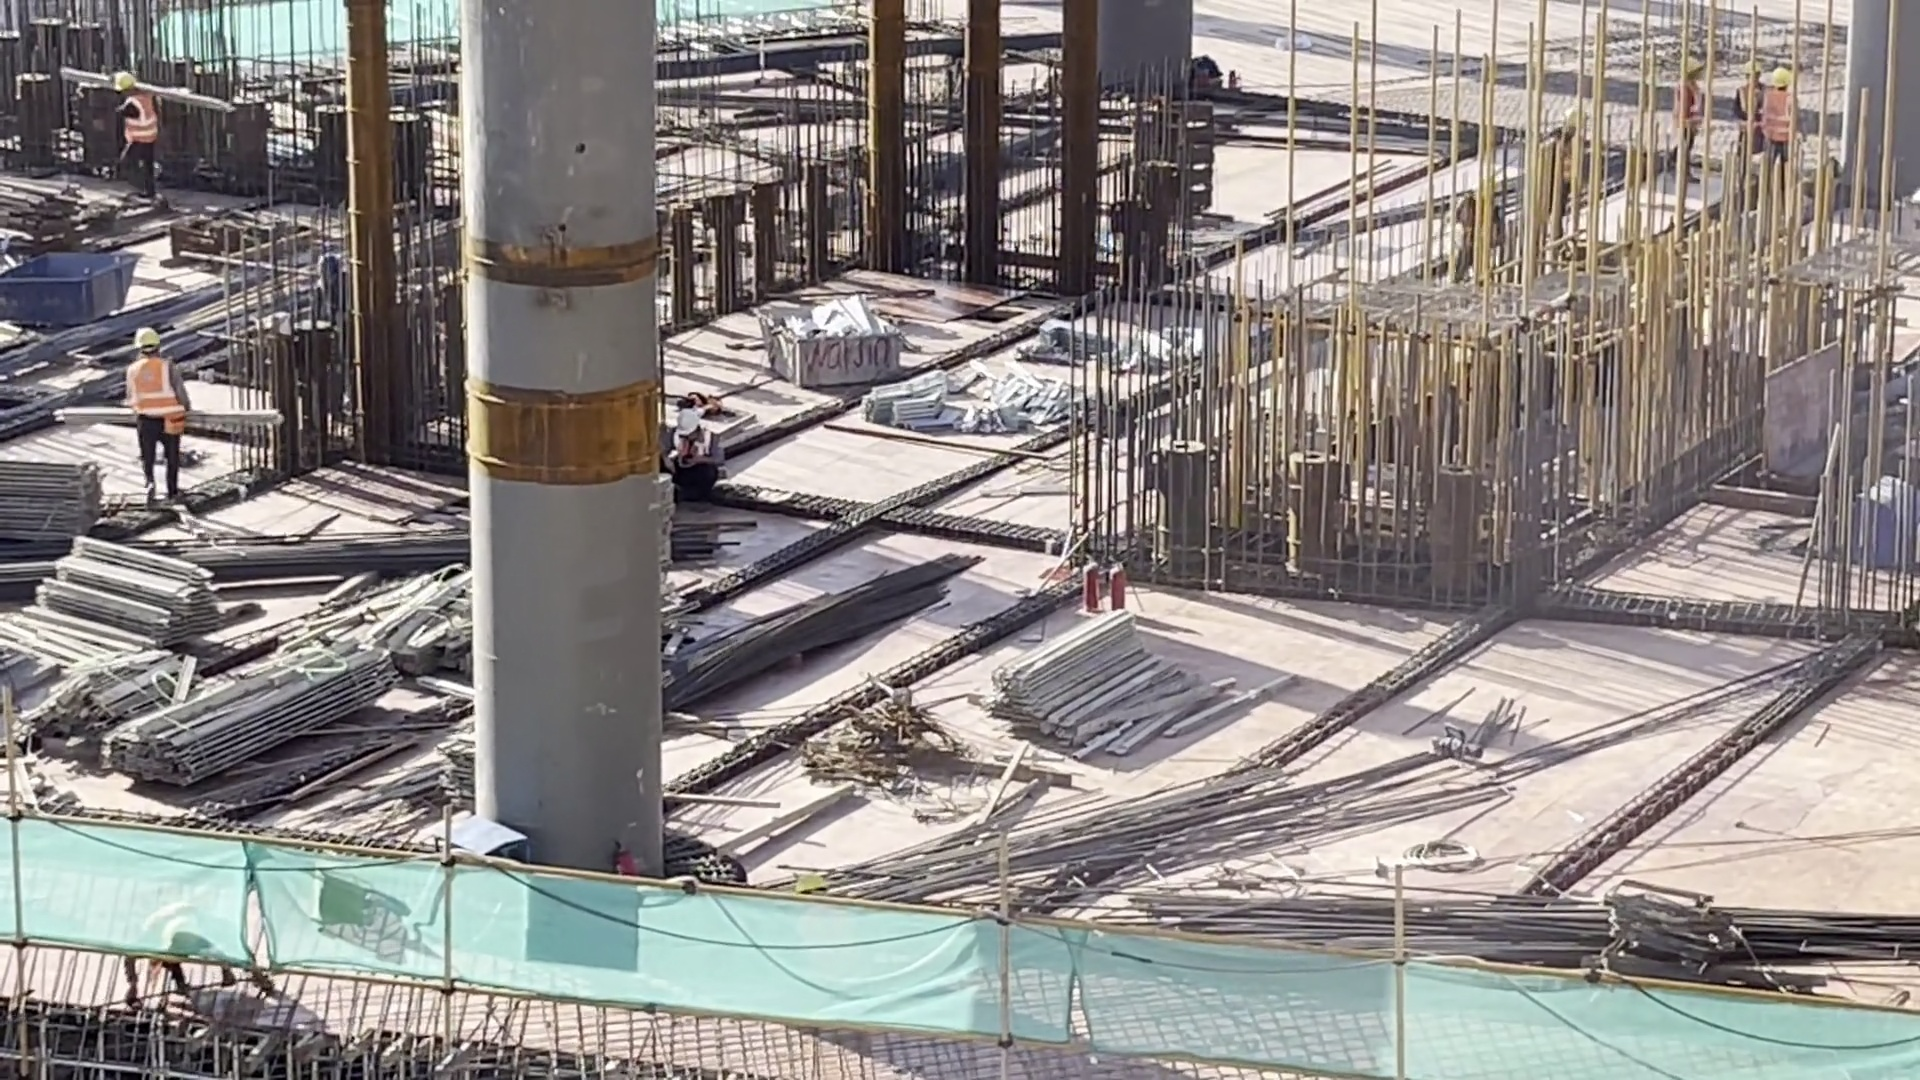helmet: (132, 308, 166, 354), (669, 397, 699, 435), (108, 71, 132, 104), (1774, 58, 1796, 86)
hopper: (756, 293, 911, 393), (1, 243, 145, 348)
person: (128, 323, 197, 491), (95, 49, 163, 190), (1670, 43, 1733, 178), (1756, 54, 1811, 185), (666, 398, 714, 498)
vest: (119, 342, 189, 439), (1754, 75, 1796, 145), (118, 97, 164, 143)
wood: (107, 637, 396, 787), (997, 600, 1210, 753), (33, 530, 217, 650), (1, 455, 107, 574)
